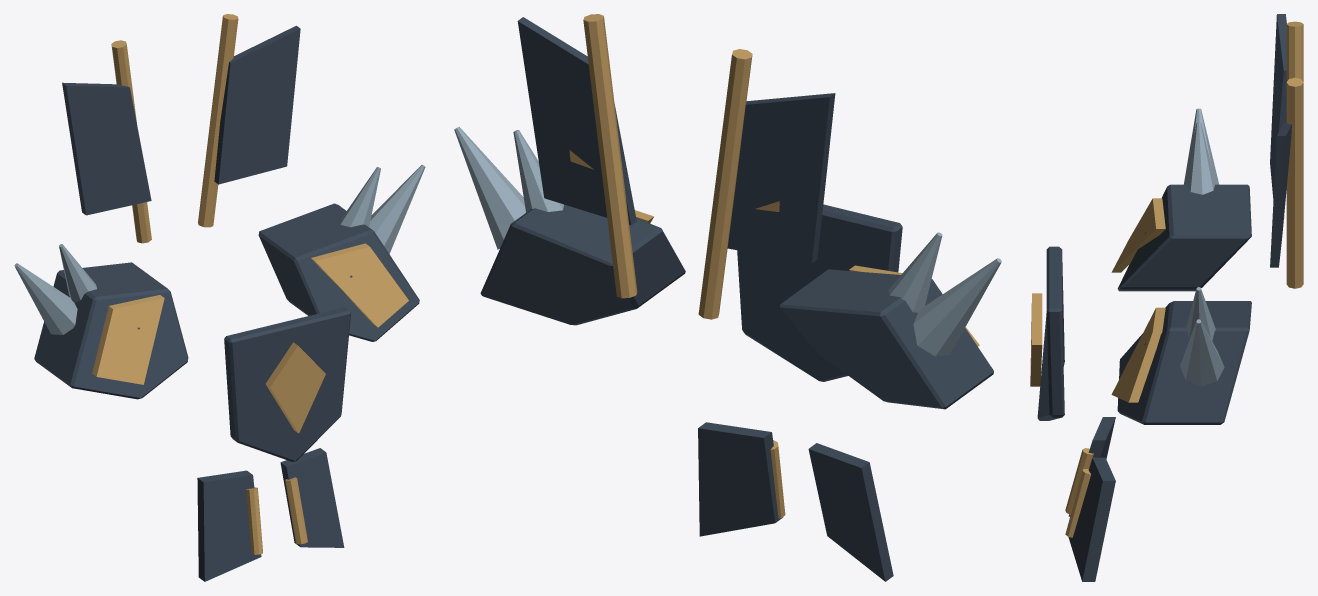
The model's file is forge-bulwark-v2.glb.
3 views of the same model, side by side, from view 1: azimuth 30°, elevation 25°; view 2: azimuth 150°, elevation 25°; view 3: azimuth 270°, elevation 25° (orthographic). The views are drawn at different scales.
Parts seen in each view (by area): view 1: 흉갑 외곽, 어깨 외곽, 어깨 외곽.001, 허리 파편; view 2: 흉갑 외곽, 어깨 외곽, 어깨 외곽.001, 허리 파편; view 3: 어깨 외곽.001, 어깨 외곽, 흉갑 외곽, 허리 파편.
Part boxes in pixels (bbox=[...]): 흉갑 외곽: bbox=[62, 14, 351, 461]; 어깨 외곽: bbox=[14, 244, 188, 399]; 어깨 외곽.001: bbox=[258, 164, 425, 341]; 허리 파편: bbox=[197, 448, 344, 581]; 흉갑 외곽: bbox=[517, 14, 902, 381]; 어깨 외곽: bbox=[779, 232, 1001, 409]; 어깨 외곽.001: bbox=[454, 126, 685, 325]; 허리 파편: bbox=[698, 422, 893, 581]; 어깨 외곽.001: bbox=[1111, 287, 1251, 424]; 어깨 외곽: bbox=[1111, 108, 1251, 291]; 흉갑 외곽: bbox=[1030, 14, 1303, 420]; 허리 파편: bbox=[1065, 417, 1115, 581].
Size of the model in its own units: 1.47 by 1.58 by 0.795.
